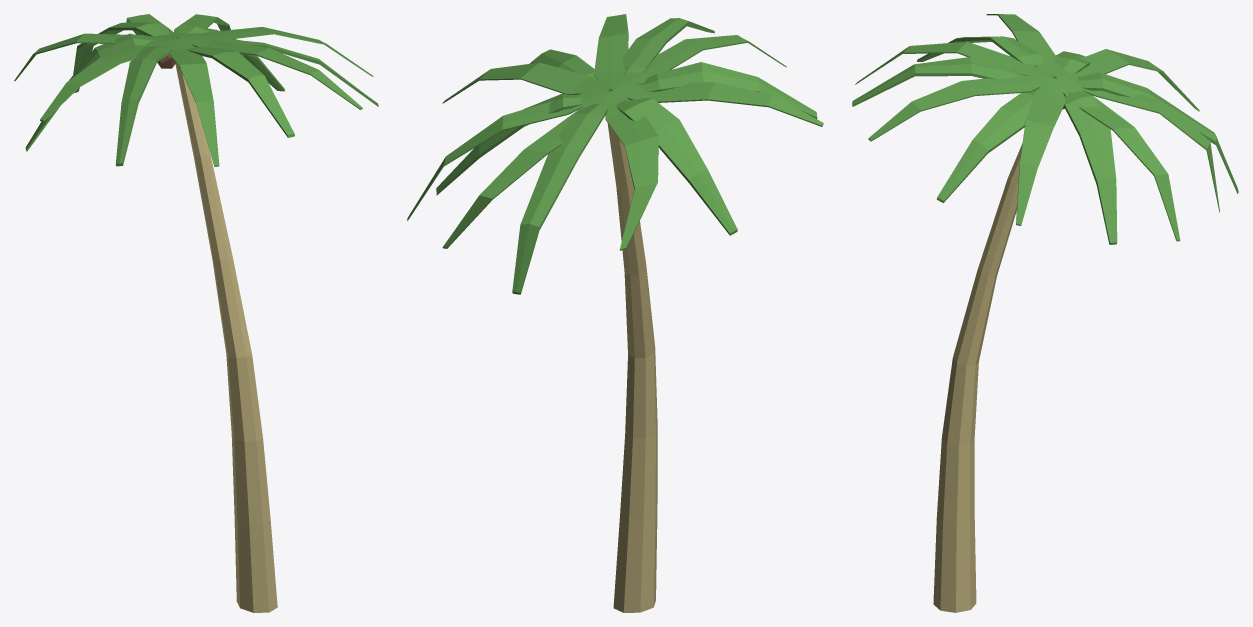
Rendered from Palm Tree004.fbx.
3 renders of one model, left to right at view 1: azimuth 30°, elevation 25°; view 2: azimuth 150°, elevation 25°; view 3: azimuth 270°, elevation 25°, orthographic. The views are drawn at different scales.
Parts seen in each view (by area): view 1: Icosphere.002; view 2: Icosphere.002; view 3: Icosphere.002.
Part boxes in pixels (<box>): Icosphere.002: <box>14,14,378,612</box>; Icosphere.002: <box>407,14,823,612</box>; Icosphere.002: <box>852,14,1238,612</box>.
Size of the model in its own units: 976 by 1488 by 983.
